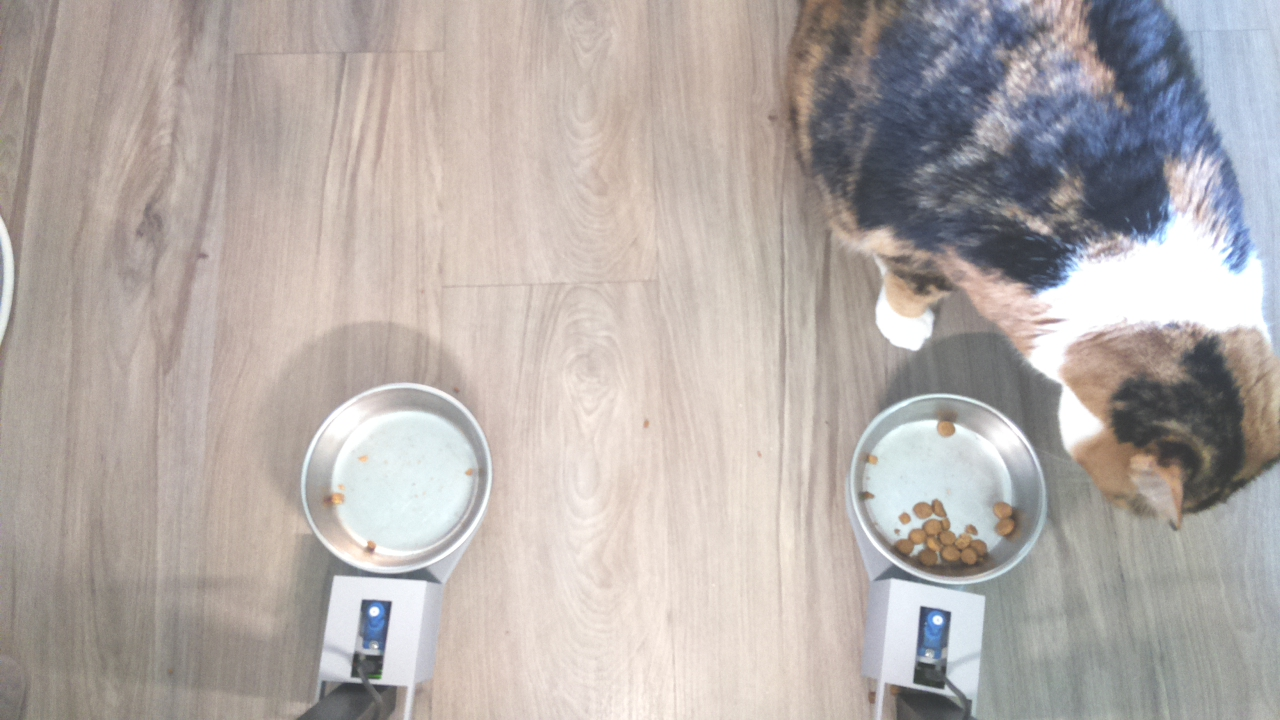bella: (1050, 259, 1280, 522)
open_bowl: (298, 379, 499, 575), (852, 392, 1047, 586)
